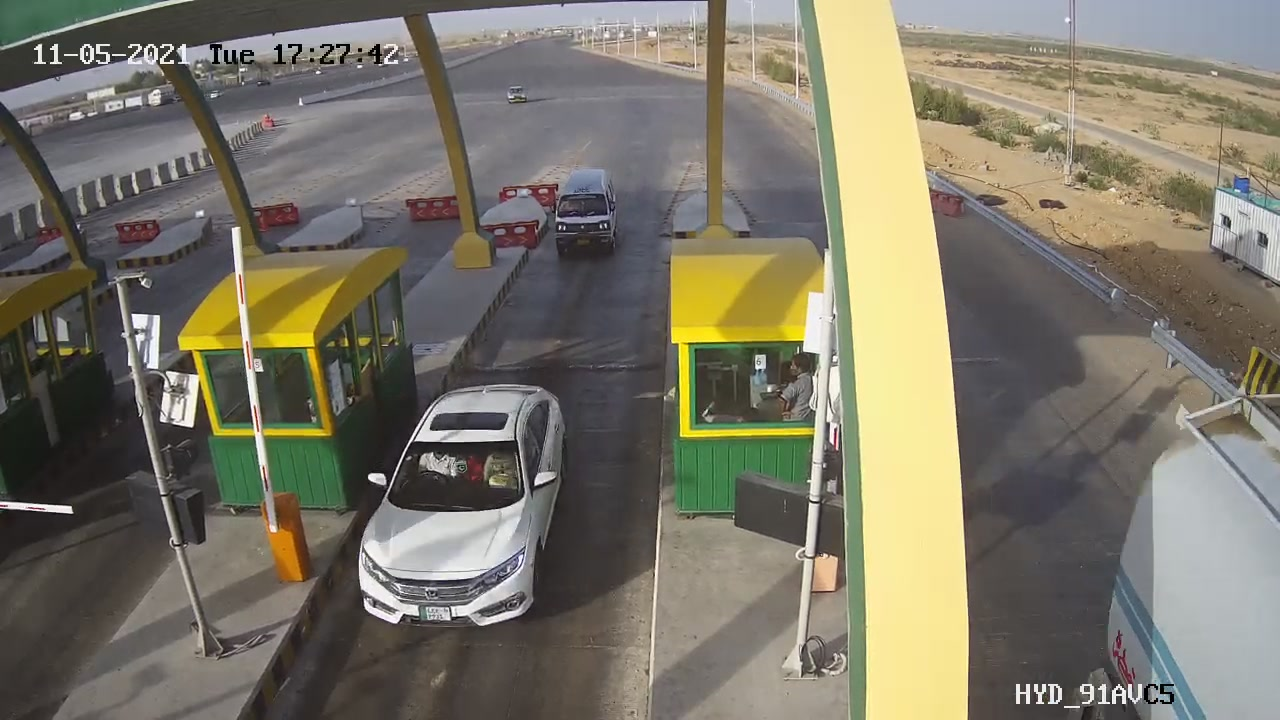F1: (540, 159, 640, 274)
